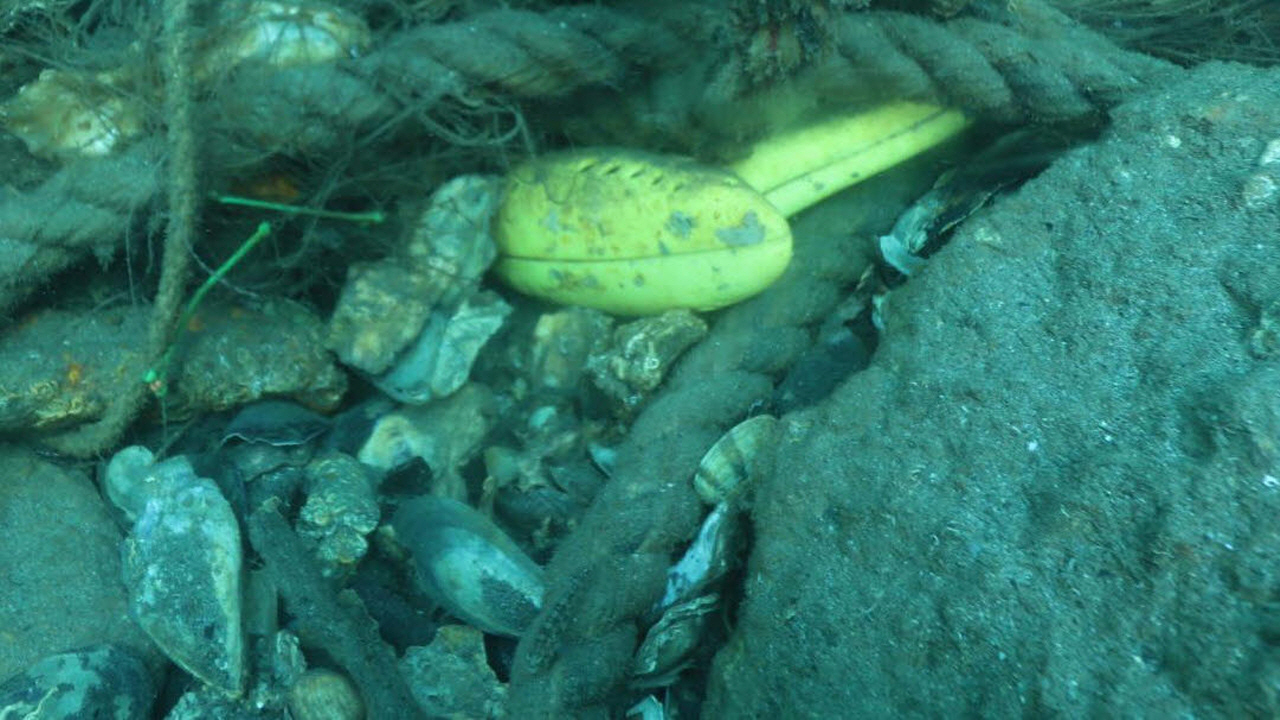bundle of ropes: (0, 0, 1184, 720)
